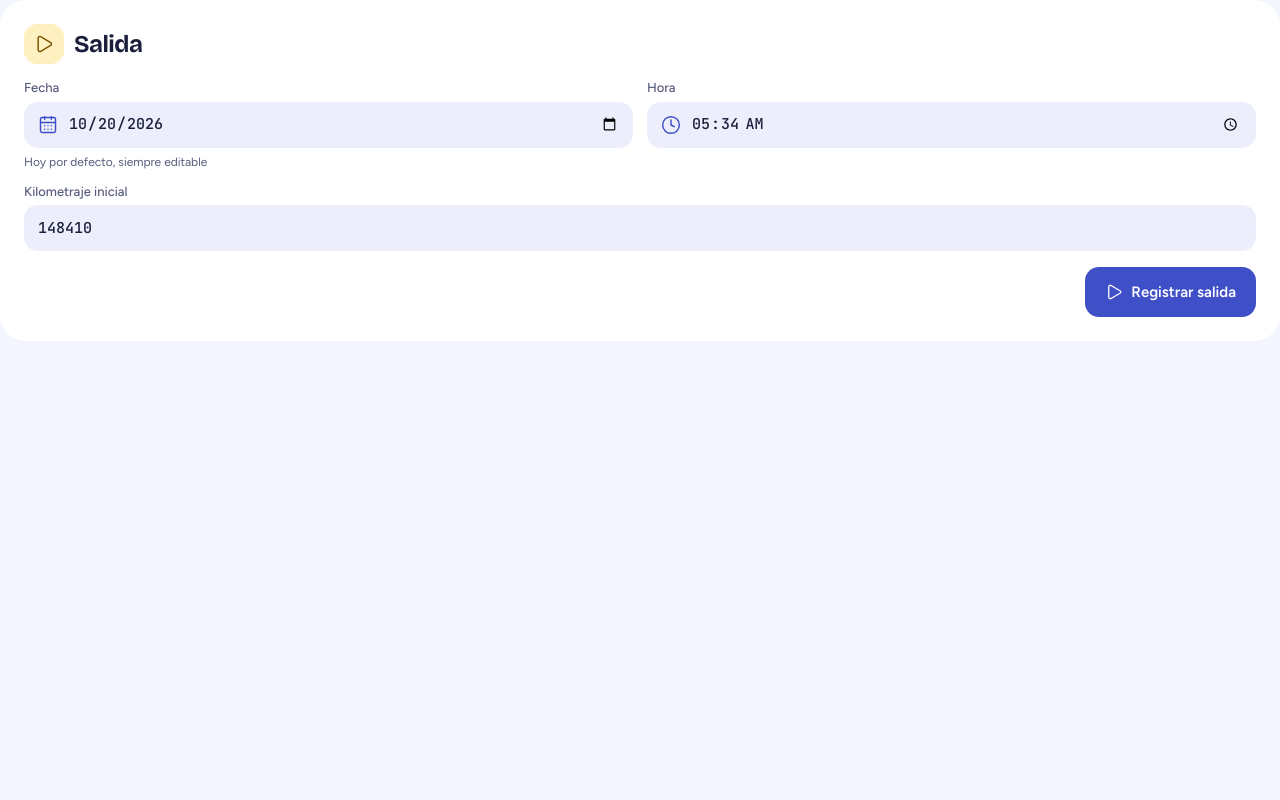
keeps the card usable when the confirmation closes without saving
Click the button "Registrar salida".
click(1171, 292)  # box [1085,267,1256,317]
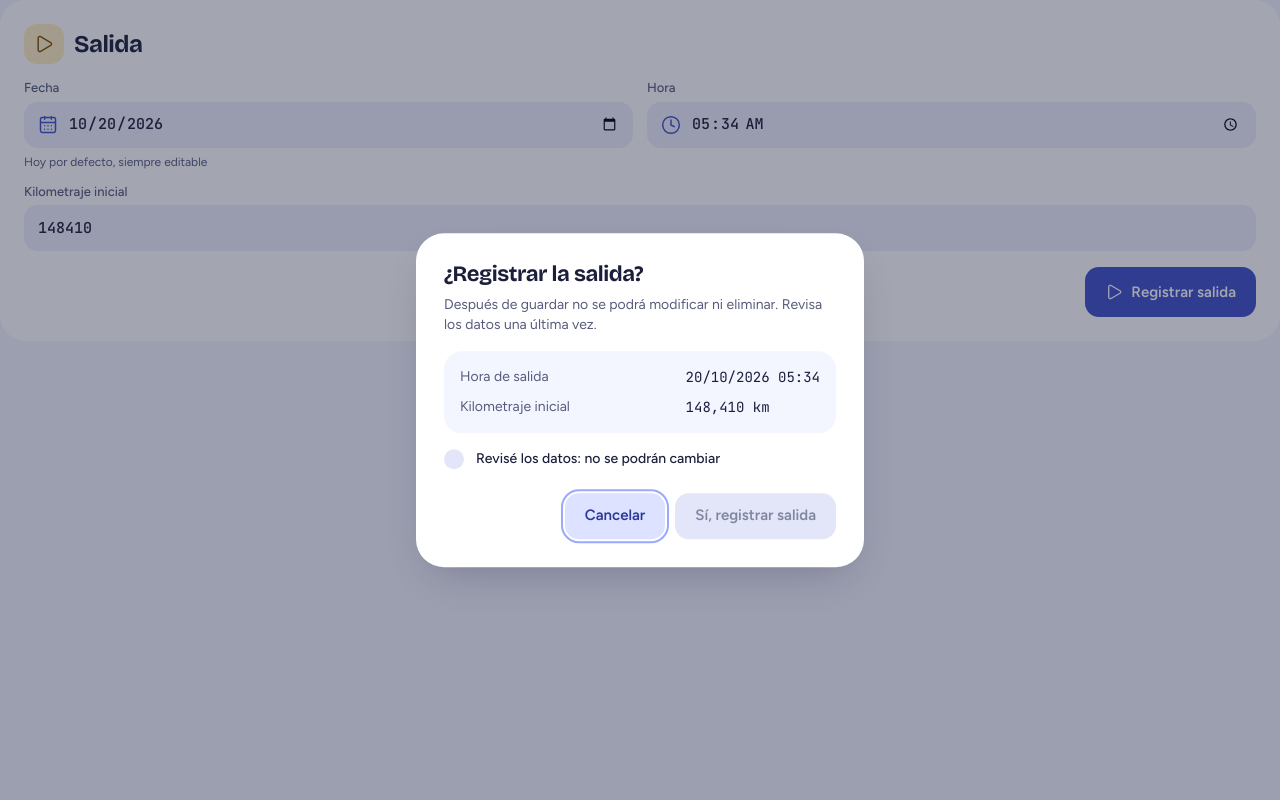
Click the button "Cancelar".
click(615, 516)  # box [565,493,665,539]
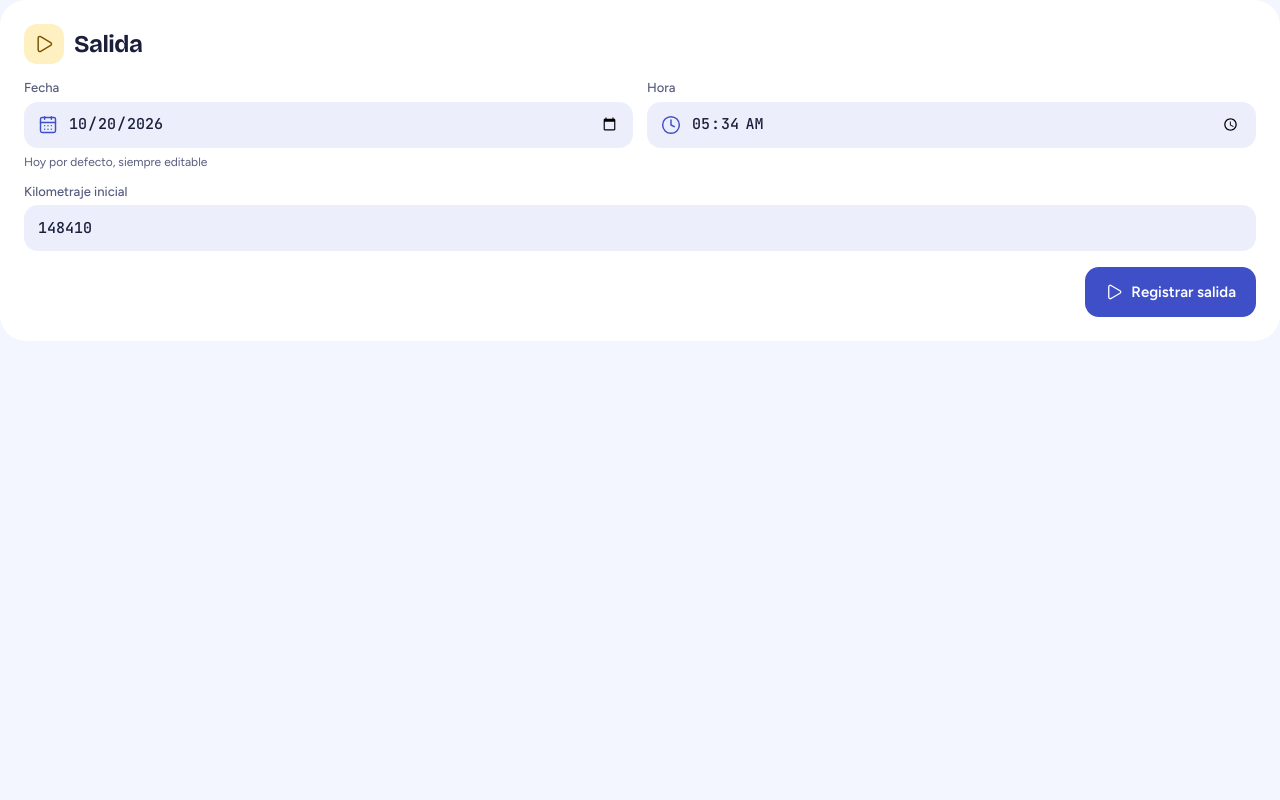
Result: the dialog is gone
